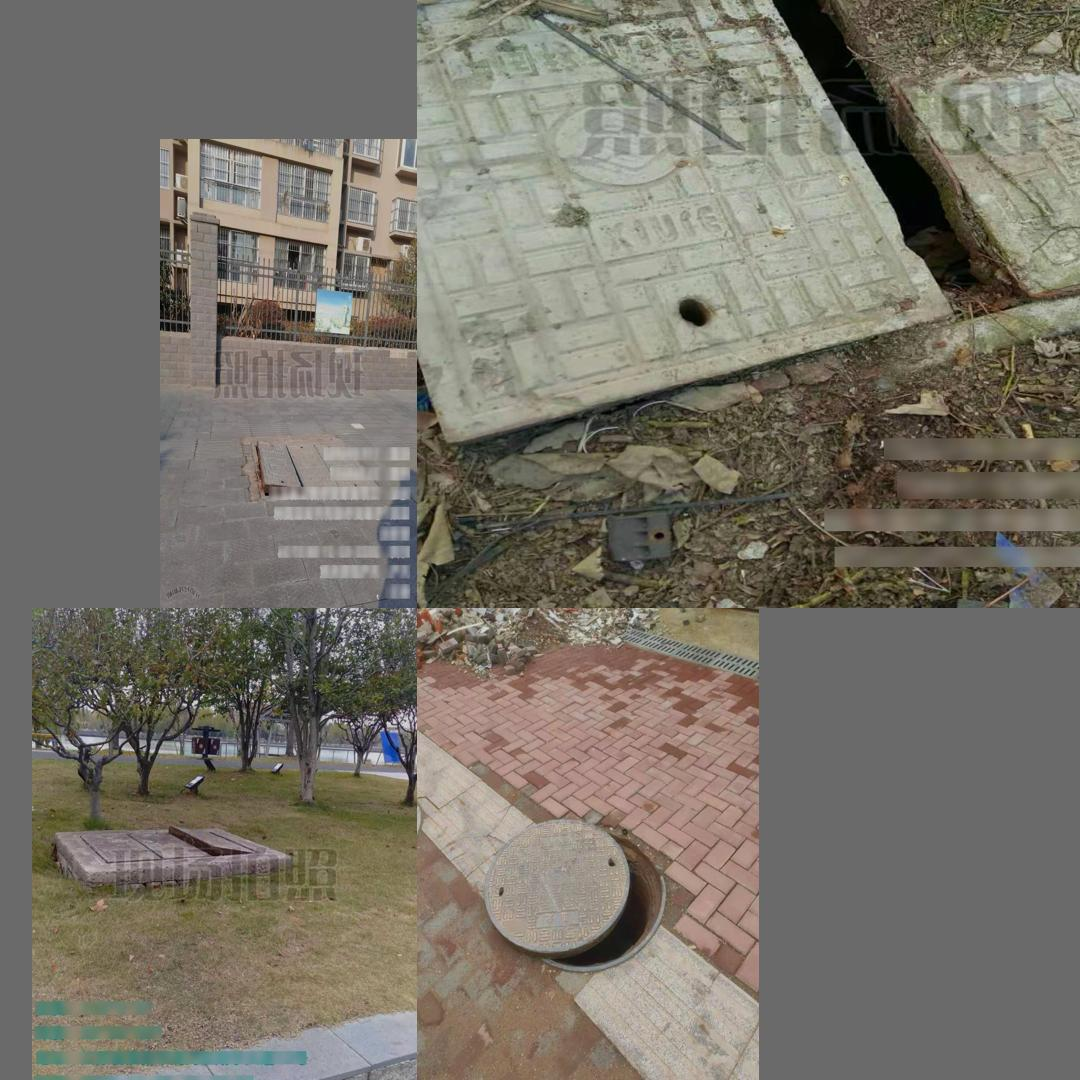uncovered: (416, 0, 1080, 445), (484, 818, 667, 973), (58, 823, 310, 874), (251, 437, 382, 500)
